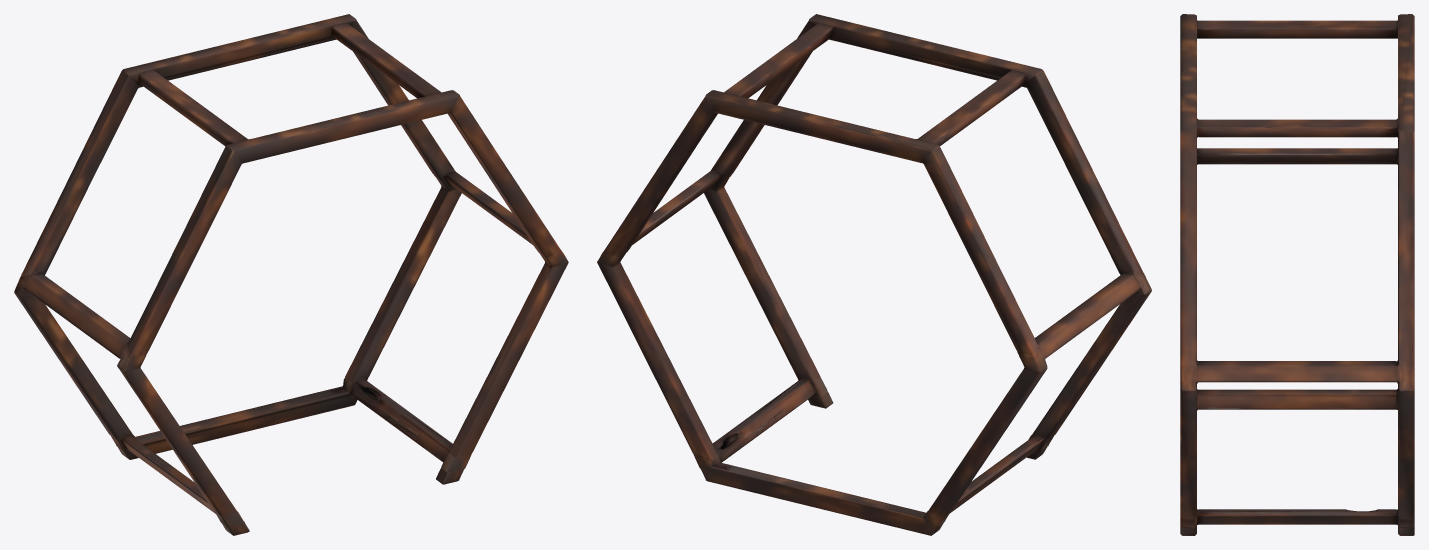
Rendered from hexagonal_shelf_desig_0126175348_texture.glb.
3 views of the same model, side by side, from view 1: azimuth 30°, elevation 25°; view 2: azimuth 150°, elevation 25°; view 3: azimuth 270°, elevation 25° (orthographic). The views are drawn at different scales.
Visible parts, largest first — view 1: Mesh_0; view 2: Mesh_0; view 3: Mesh_0.
Boxes of the visible parts, x1=… form: Mesh_0: x1=14, y1=14, x2=568, y2=535; Mesh_0: x1=597, y1=14, x2=1151, y2=535; Mesh_0: x1=1180, y1=14, x2=1414, y2=535.
Size of the model in its own units: 2.76 by 2.29 by 1.19.
Materials: 1 (1 with a texture image).
